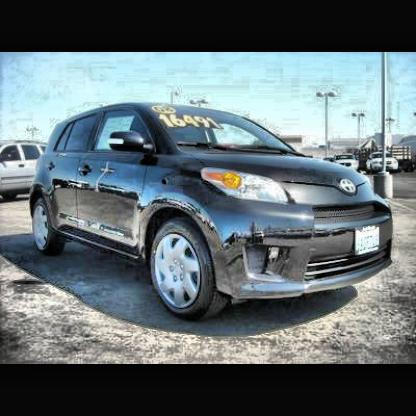Scion xD Hatchback 2012: (28, 103, 396, 306)
